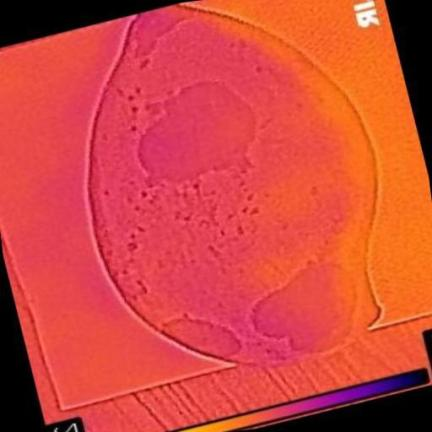mango: (89, 3, 376, 365)
